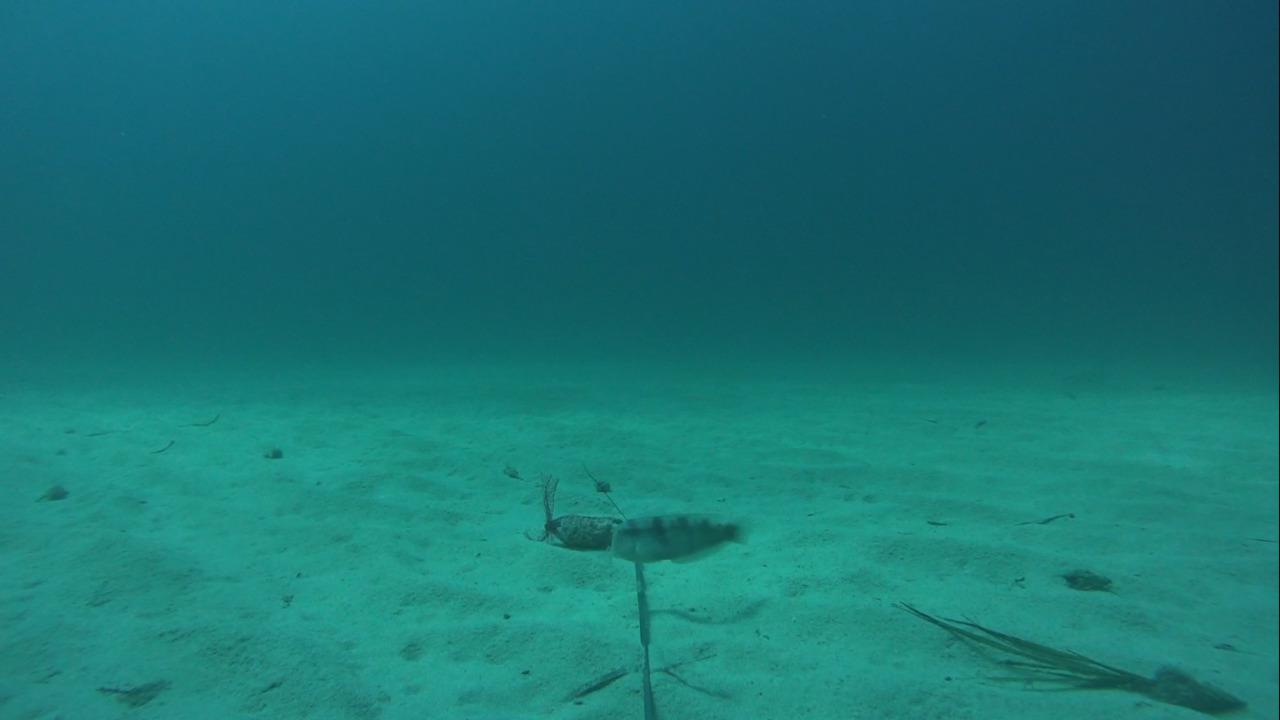raor: (612, 506, 745, 567)
